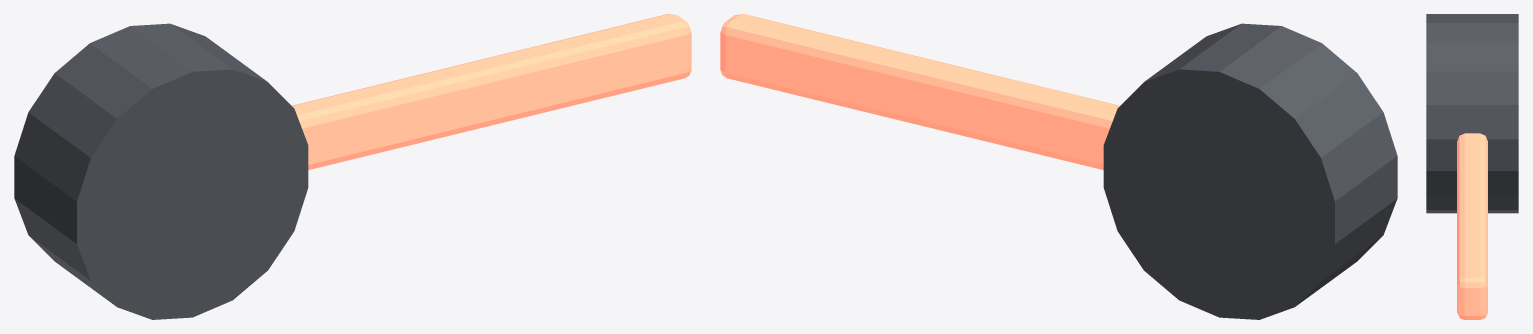
File: gauge_needle.glb
3 views of the same model, side by side, from view 1: azimuth 30°, elevation 25°; view 2: azimuth 150°, elevation 25°; view 3: azimuth 270°, elevation 25° (orthographic). The views are drawn at different scales.
Visible parts, largest first — view 1: NeedleCap, NeedlePointer; view 2: NeedleCap, NeedlePointer; view 3: NeedleCap, NeedlePointer.
Boxes of the visible parts, x1,y1,x2,y2 form: NeedleCap: [14, 23, 308, 319]; NeedlePointer: [292, 14, 691, 169]; NeedleCap: [1103, 23, 1397, 319]; NeedlePointer: [720, 14, 1119, 169]; NeedleCap: [1426, 14, 1518, 213]; NeedlePointer: [1457, 133, 1487, 319].
Size of the model in its own units: 0.0708 by 0.026 by 0.012.
